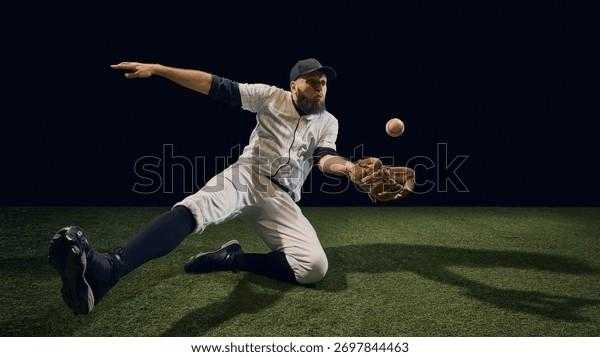baseball: (386, 118, 404, 136)
